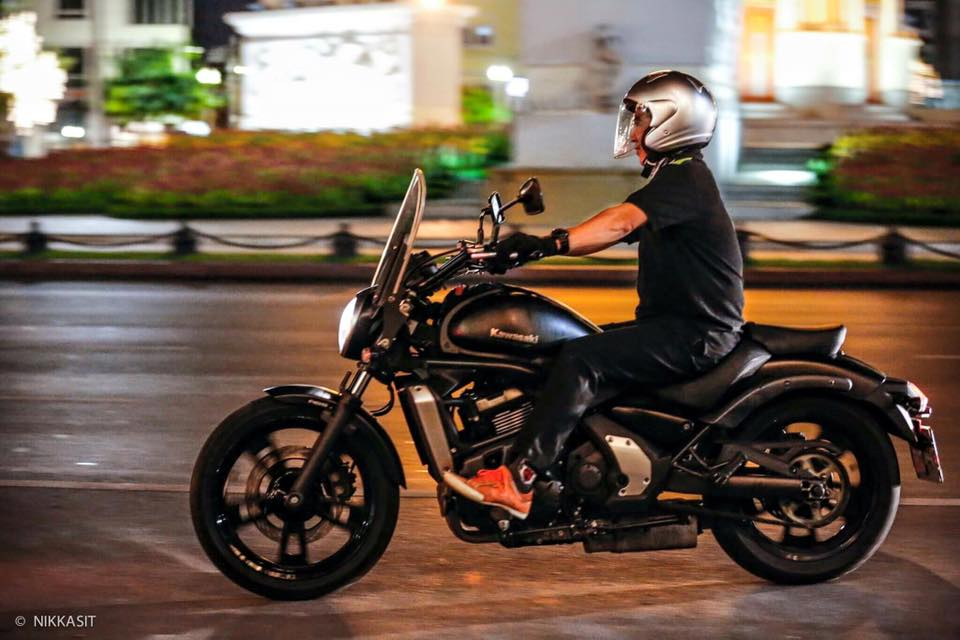motorcycle: (187, 269, 942, 602)
